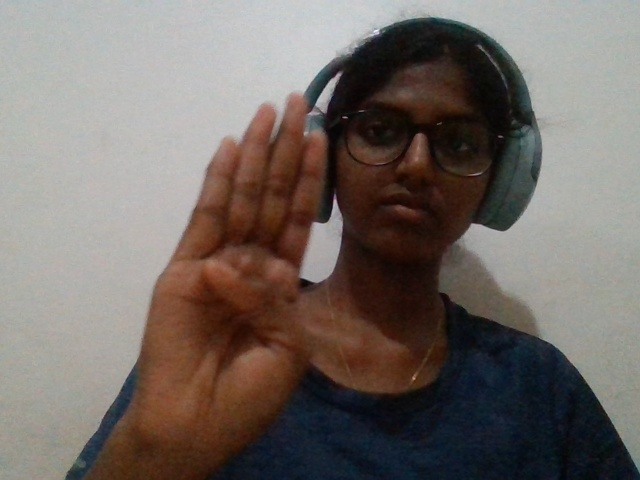B: (117, 87, 333, 475)
